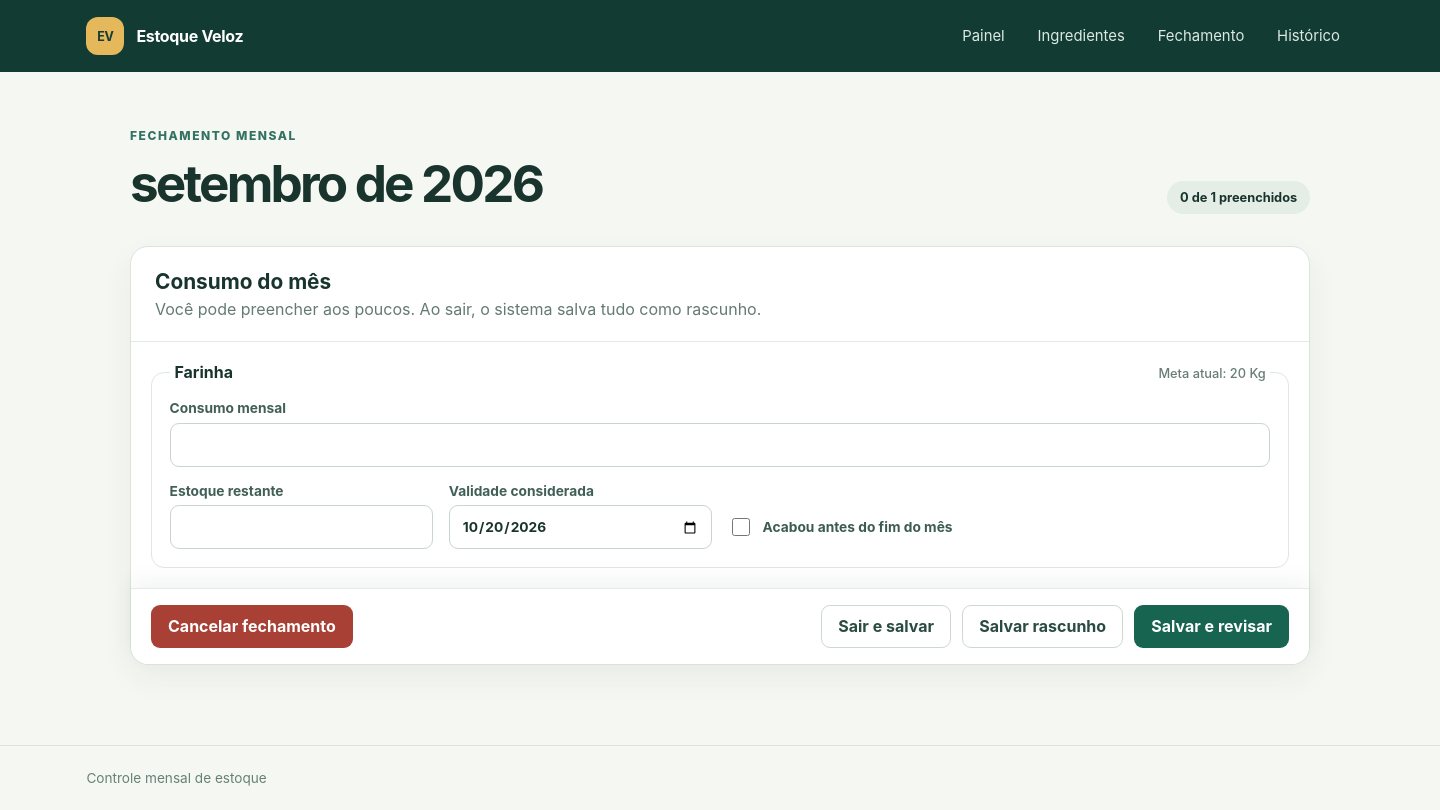
Fechamento mensal › salva automaticamente o rascunho antes de sair
Type "9" into the number field named "Consumo mensal de Farinha" at (720, 445), box top-left (170, 423), bottom-right (1270, 467)
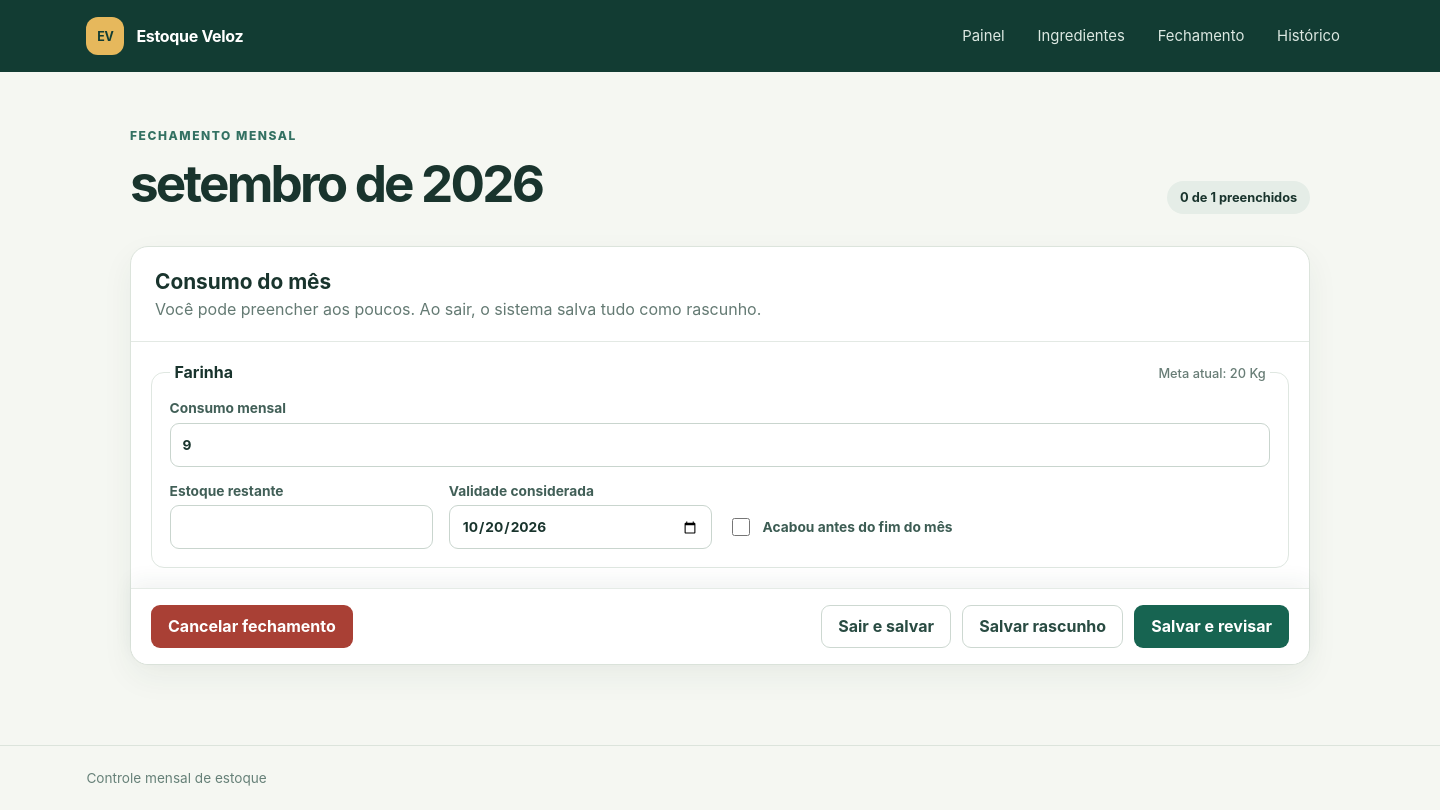
Click the button "Sair e salvar" at (886, 626), box top-left (821, 605), bottom-right (951, 648)
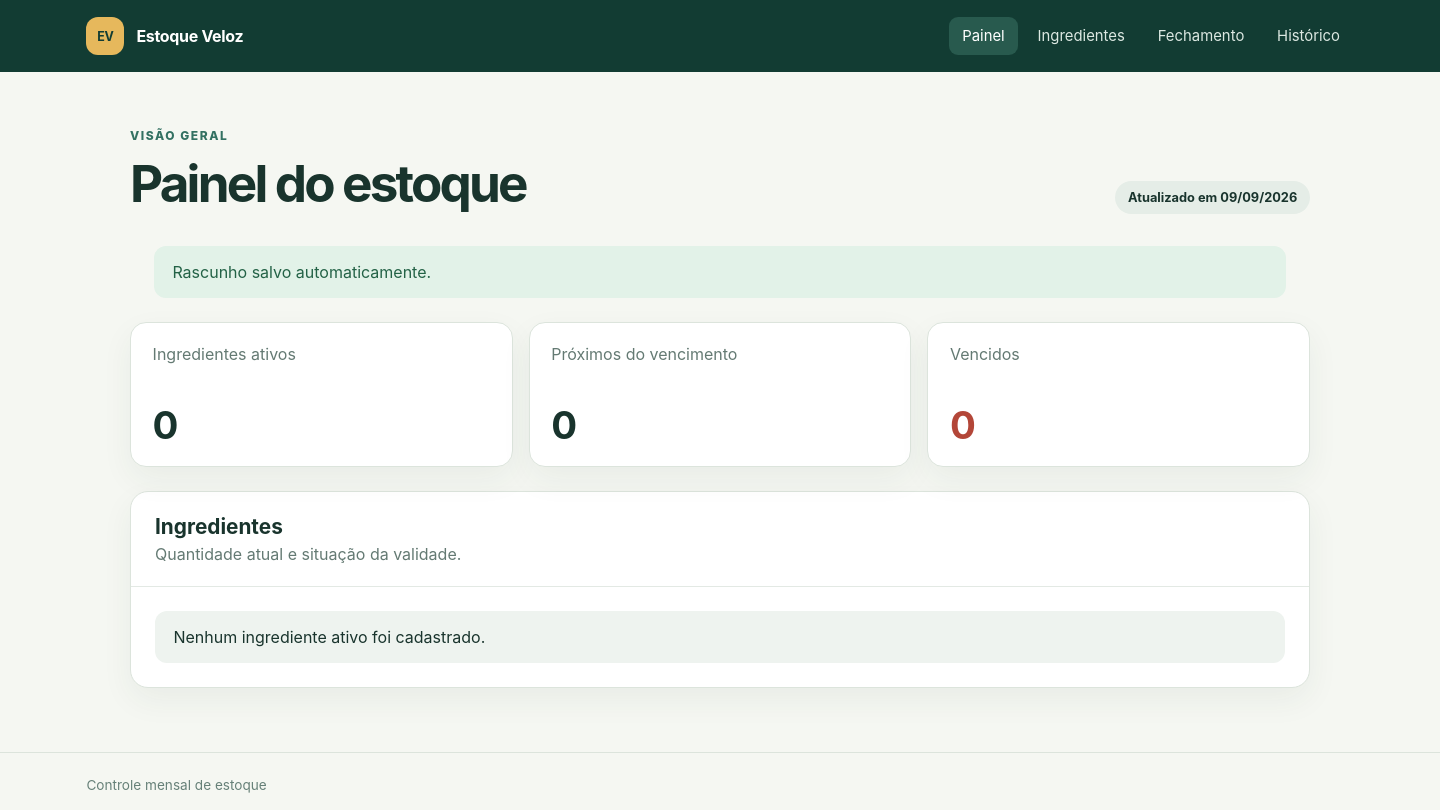
Now the heading "Painel do estoque" is shown, box top-left (130, 152), bottom-right (526, 214)
Now the text "Rascunho salvo automaticamente." is shown, box top-left (172, 262), bottom-right (431, 282)
